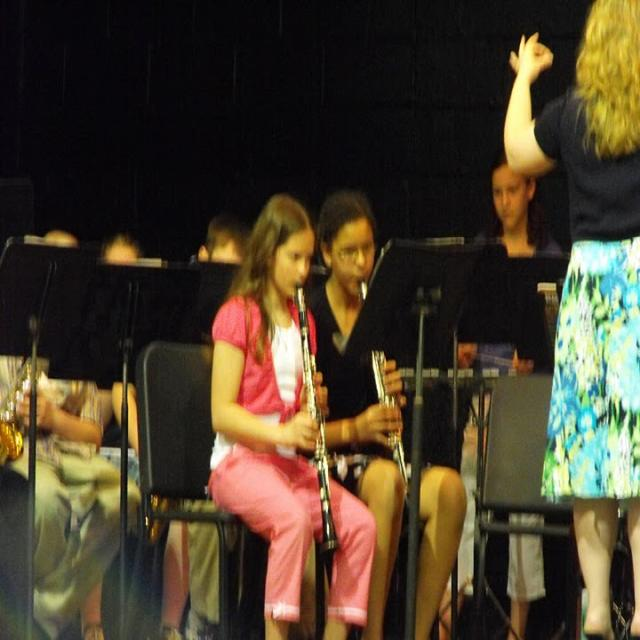clarinet: (293, 286, 344, 564), (357, 279, 418, 498)
